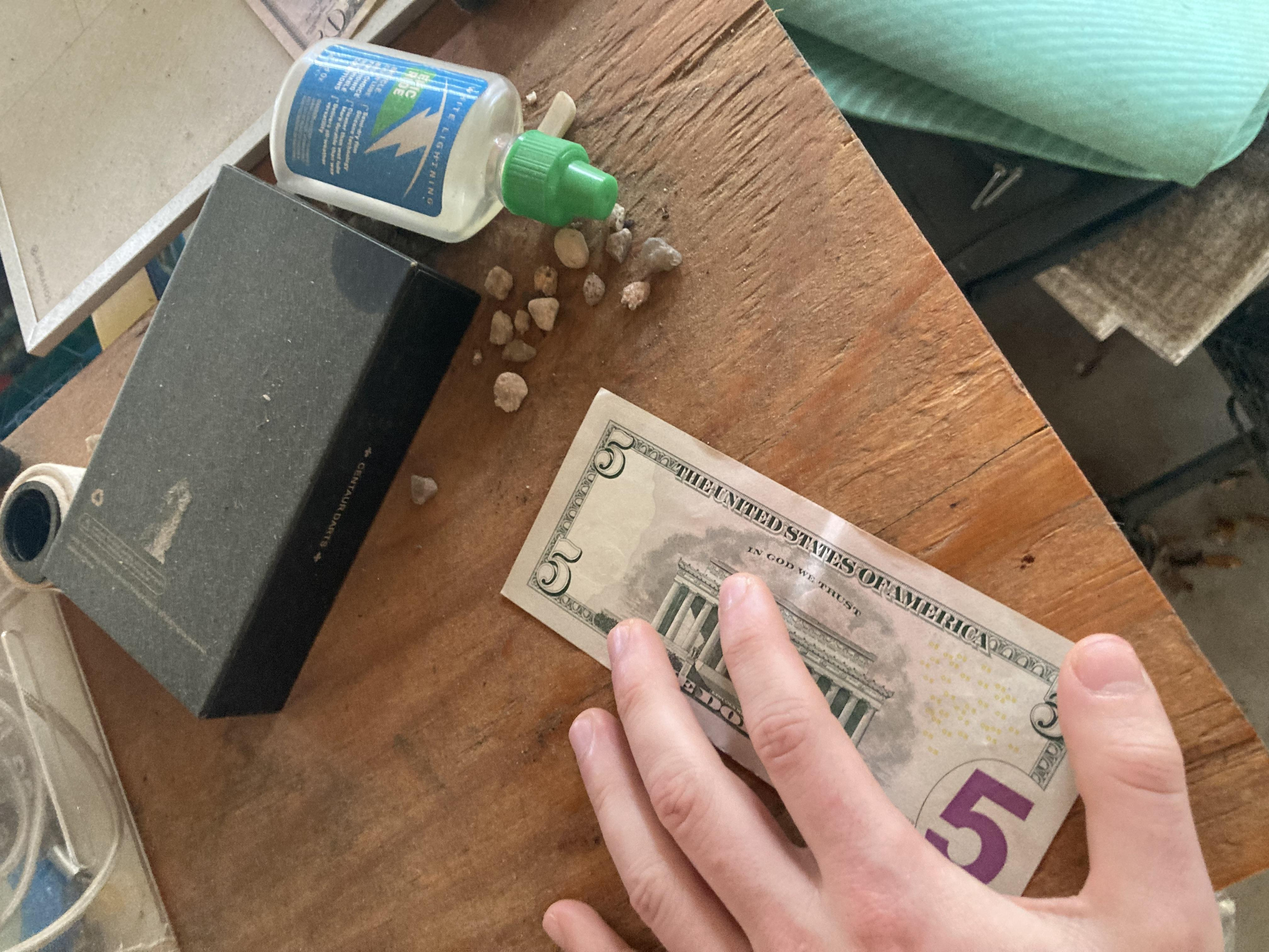five-back: (21, 376, 755, 855)
